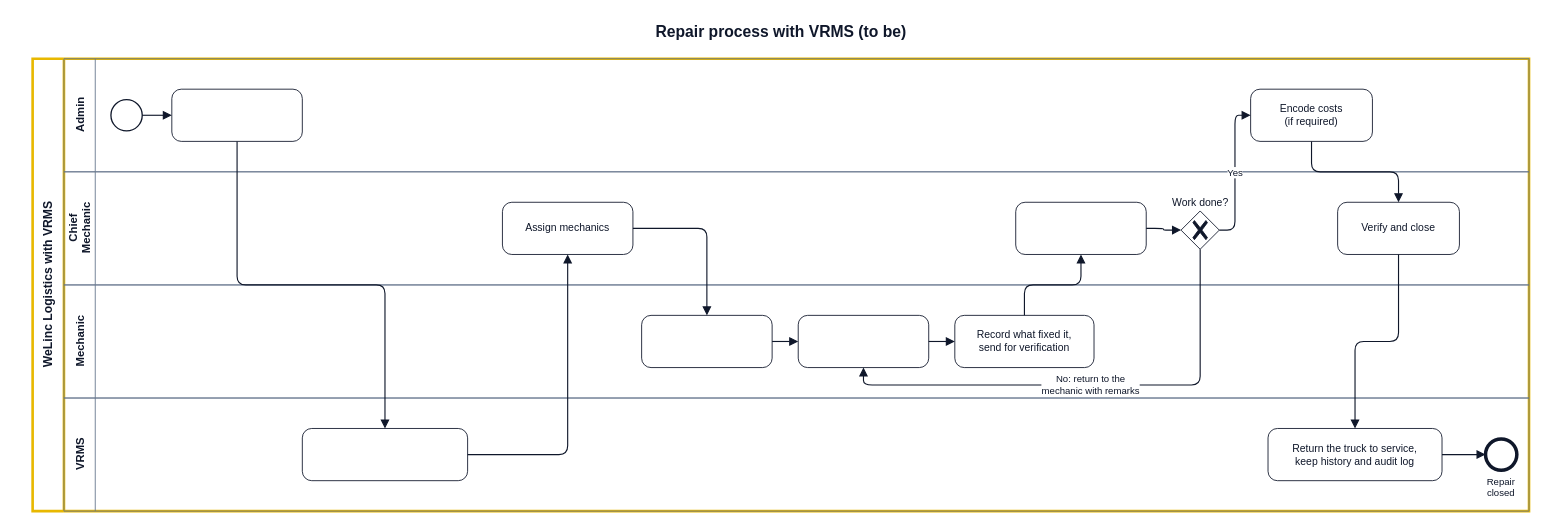
Some shapes in this 1561 by 527 pixel diagram are drawn without their labels. Here are the shapes that lost their labels. From the top down, the centre of each, then its label:
point 126,115: Truck problem reported
point 236,114: Create the repair ticket
point 1080,227: Review the work and photos
point 706,341: Take a Before photo, start work
point 863,341: Follow the checklist, add After photos
point 384,454: Check one open ticket per truck, mark it under repair
